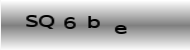6: (62, 16, 76, 30)
Q: (38, 14, 54, 29)
S: (25, 14, 38, 27)
b: (87, 14, 100, 29)
e: (113, 24, 127, 34)
